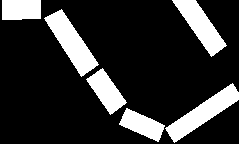parkingspot: (165, 83, 239, 142), (44, 9, 98, 76), (172, 0, 226, 56), (86, 68, 126, 114), (119, 108, 164, 141), (2, 0, 40, 19)
